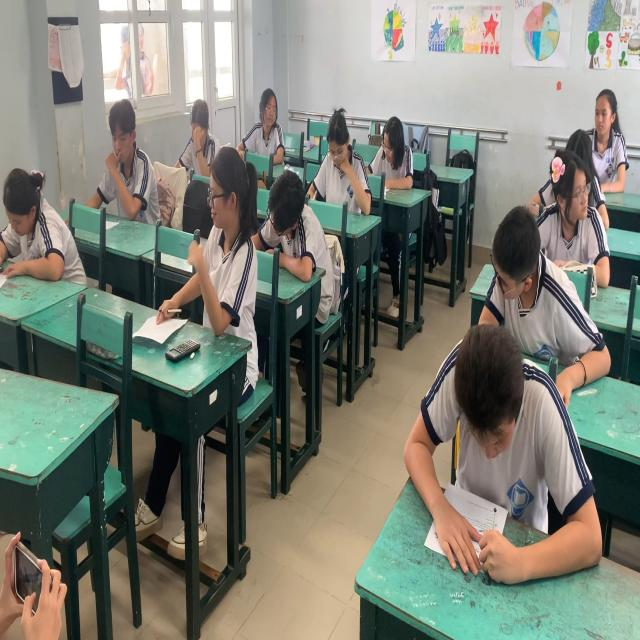cheating: (500, 181, 600, 381), (181, 138, 256, 383), (101, 86, 169, 235), (241, 70, 293, 174)
not_cheating: (414, 300, 598, 596), (0, 135, 96, 307), (532, 120, 622, 276), (266, 148, 328, 326), (580, 69, 640, 192), (320, 99, 371, 226), (370, 98, 418, 194), (180, 78, 225, 179)
